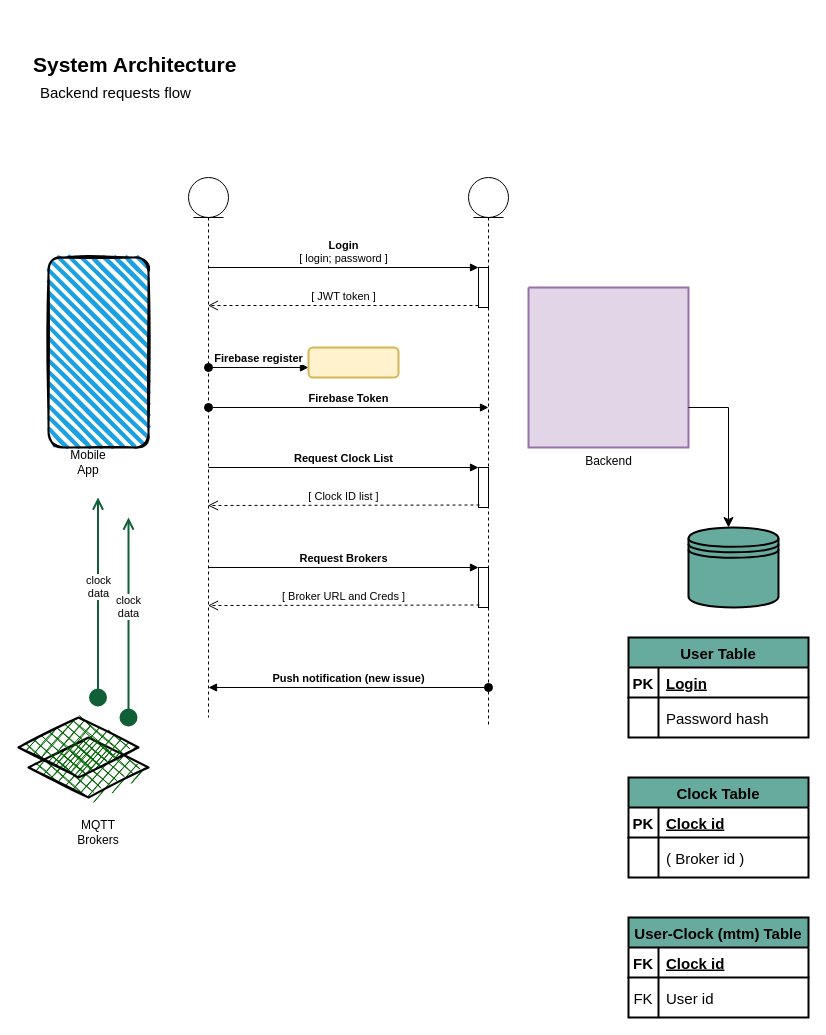
Image size: 826x1035. Some labels were removed from this diagram. The shapes that lost their labels are listed below. From the top down, each one's centre as x and y in pixels, then its label:
At (353,362): "Firebase".
At (733,567): "Database".
